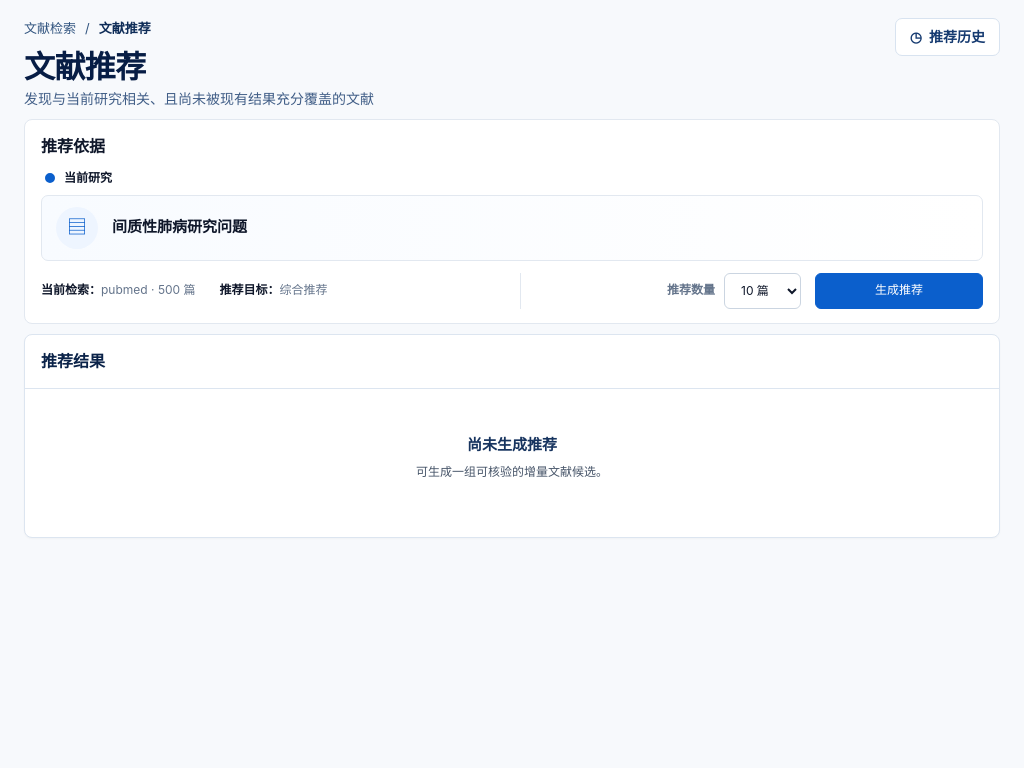
Test: removes a mismatched Intent and retries the recommendation against the current result
The width and height of the screenshot is (1024, 768).
What coordinates should you click on to do the following:
click the button "生成推荐"
I would click on:
 (899, 290)
Its box is x1=815 y1=272 x2=983 y2=308.
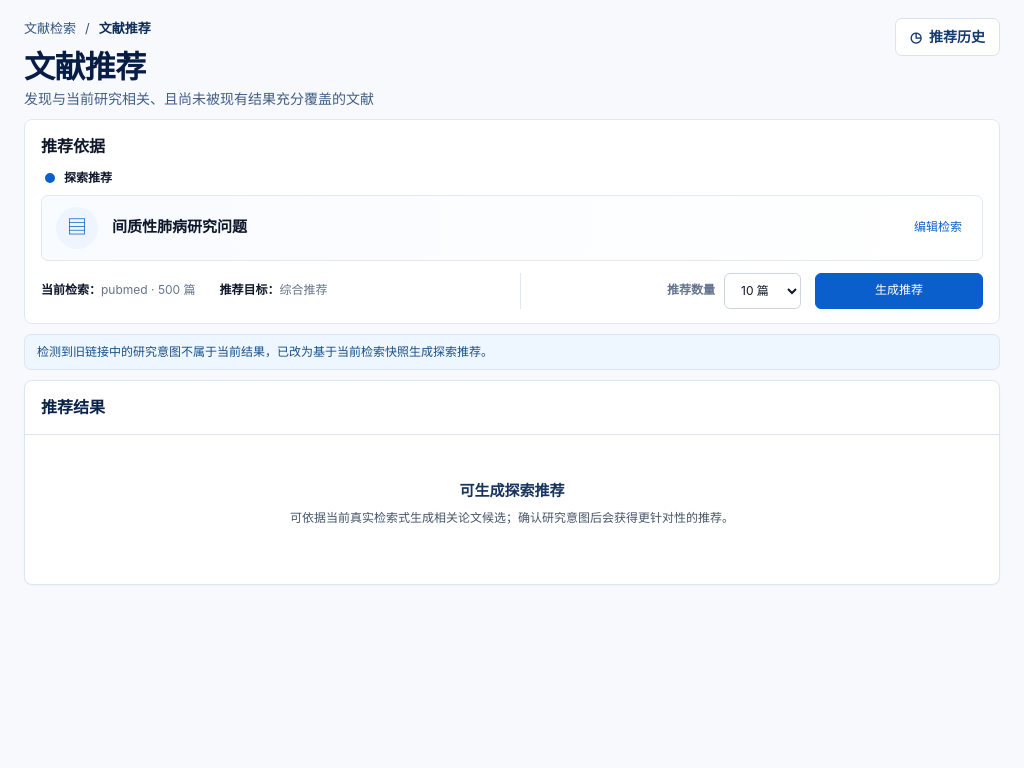
expect the text "已改为基于当前检索快照生成探索推荐" is shown: met, box x1=37 y1=344 x2=493 y2=358
